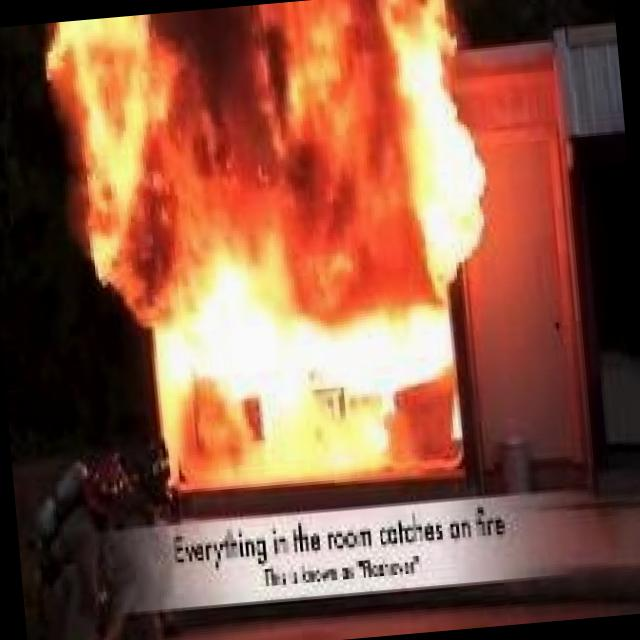fire: (20, 0, 554, 523)
